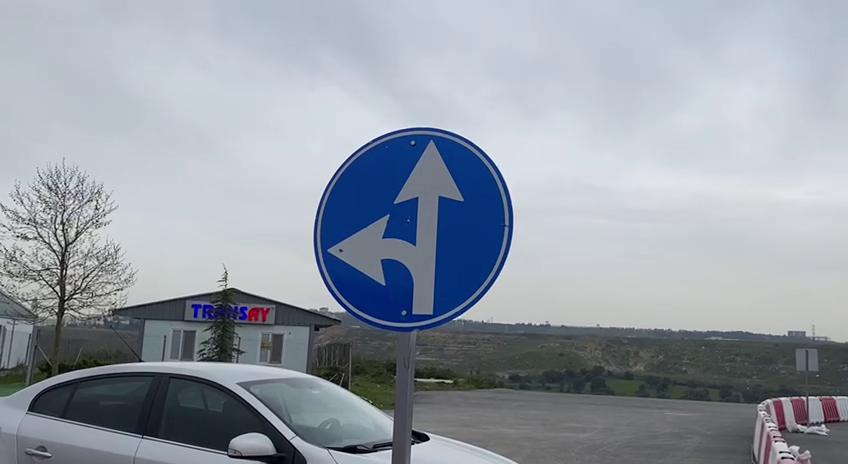forwardAndLeft: (309, 121, 516, 333)
